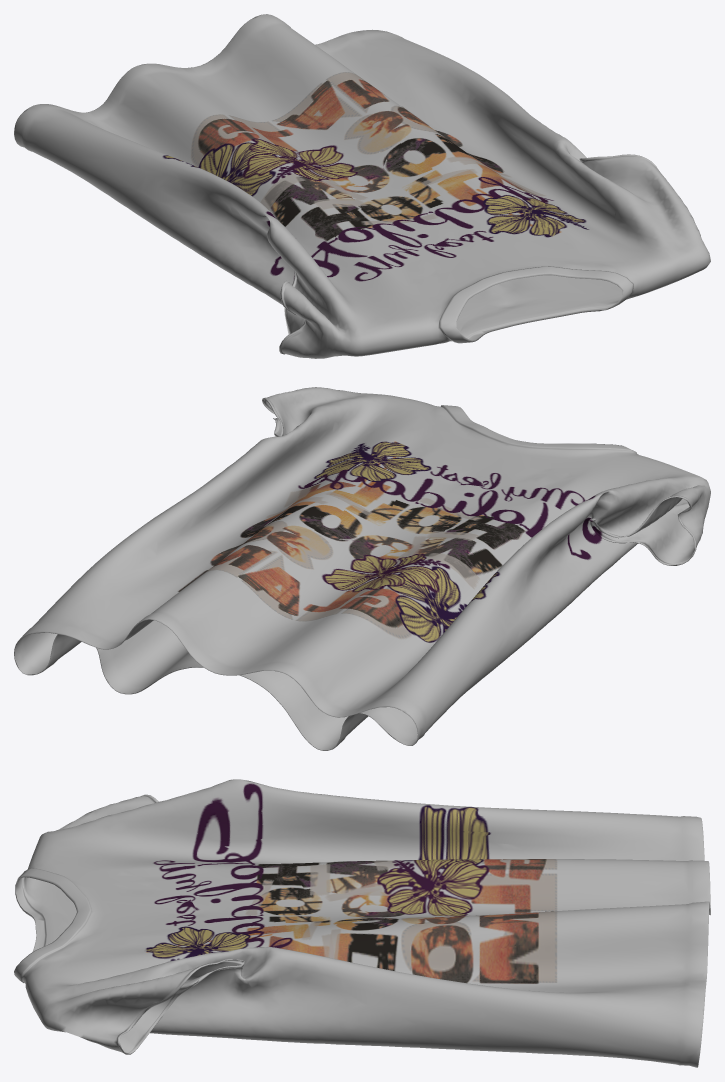
Rendered from TNSC_Tshirt_clo09_1.obj.
The picture shows the model from 3 angles, top to bottom: view 1: azimuth 30°, elevation 25°; view 2: azimuth 150°, elevation 25°; view 3: azimuth 270°, elevation 25°; orthographic projection. The views are drawn at different scales.
Size of the model in its own units: 13.73 by 3.48 by 18.99.
Materials: 1 (1 with a texture image).
